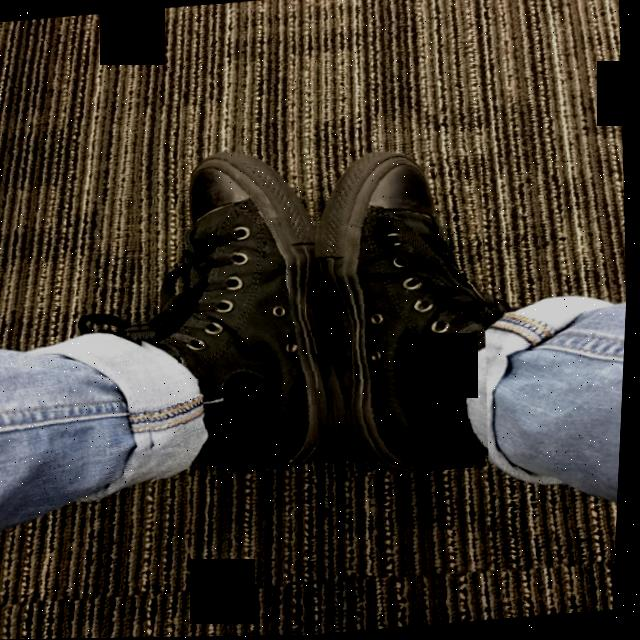shoe: (115, 141, 336, 481), (300, 136, 504, 481)
